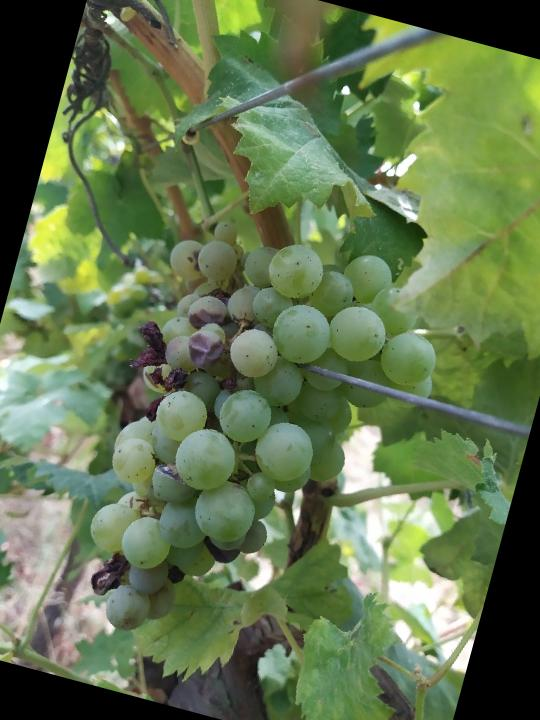grape: (58, 197, 466, 695)
